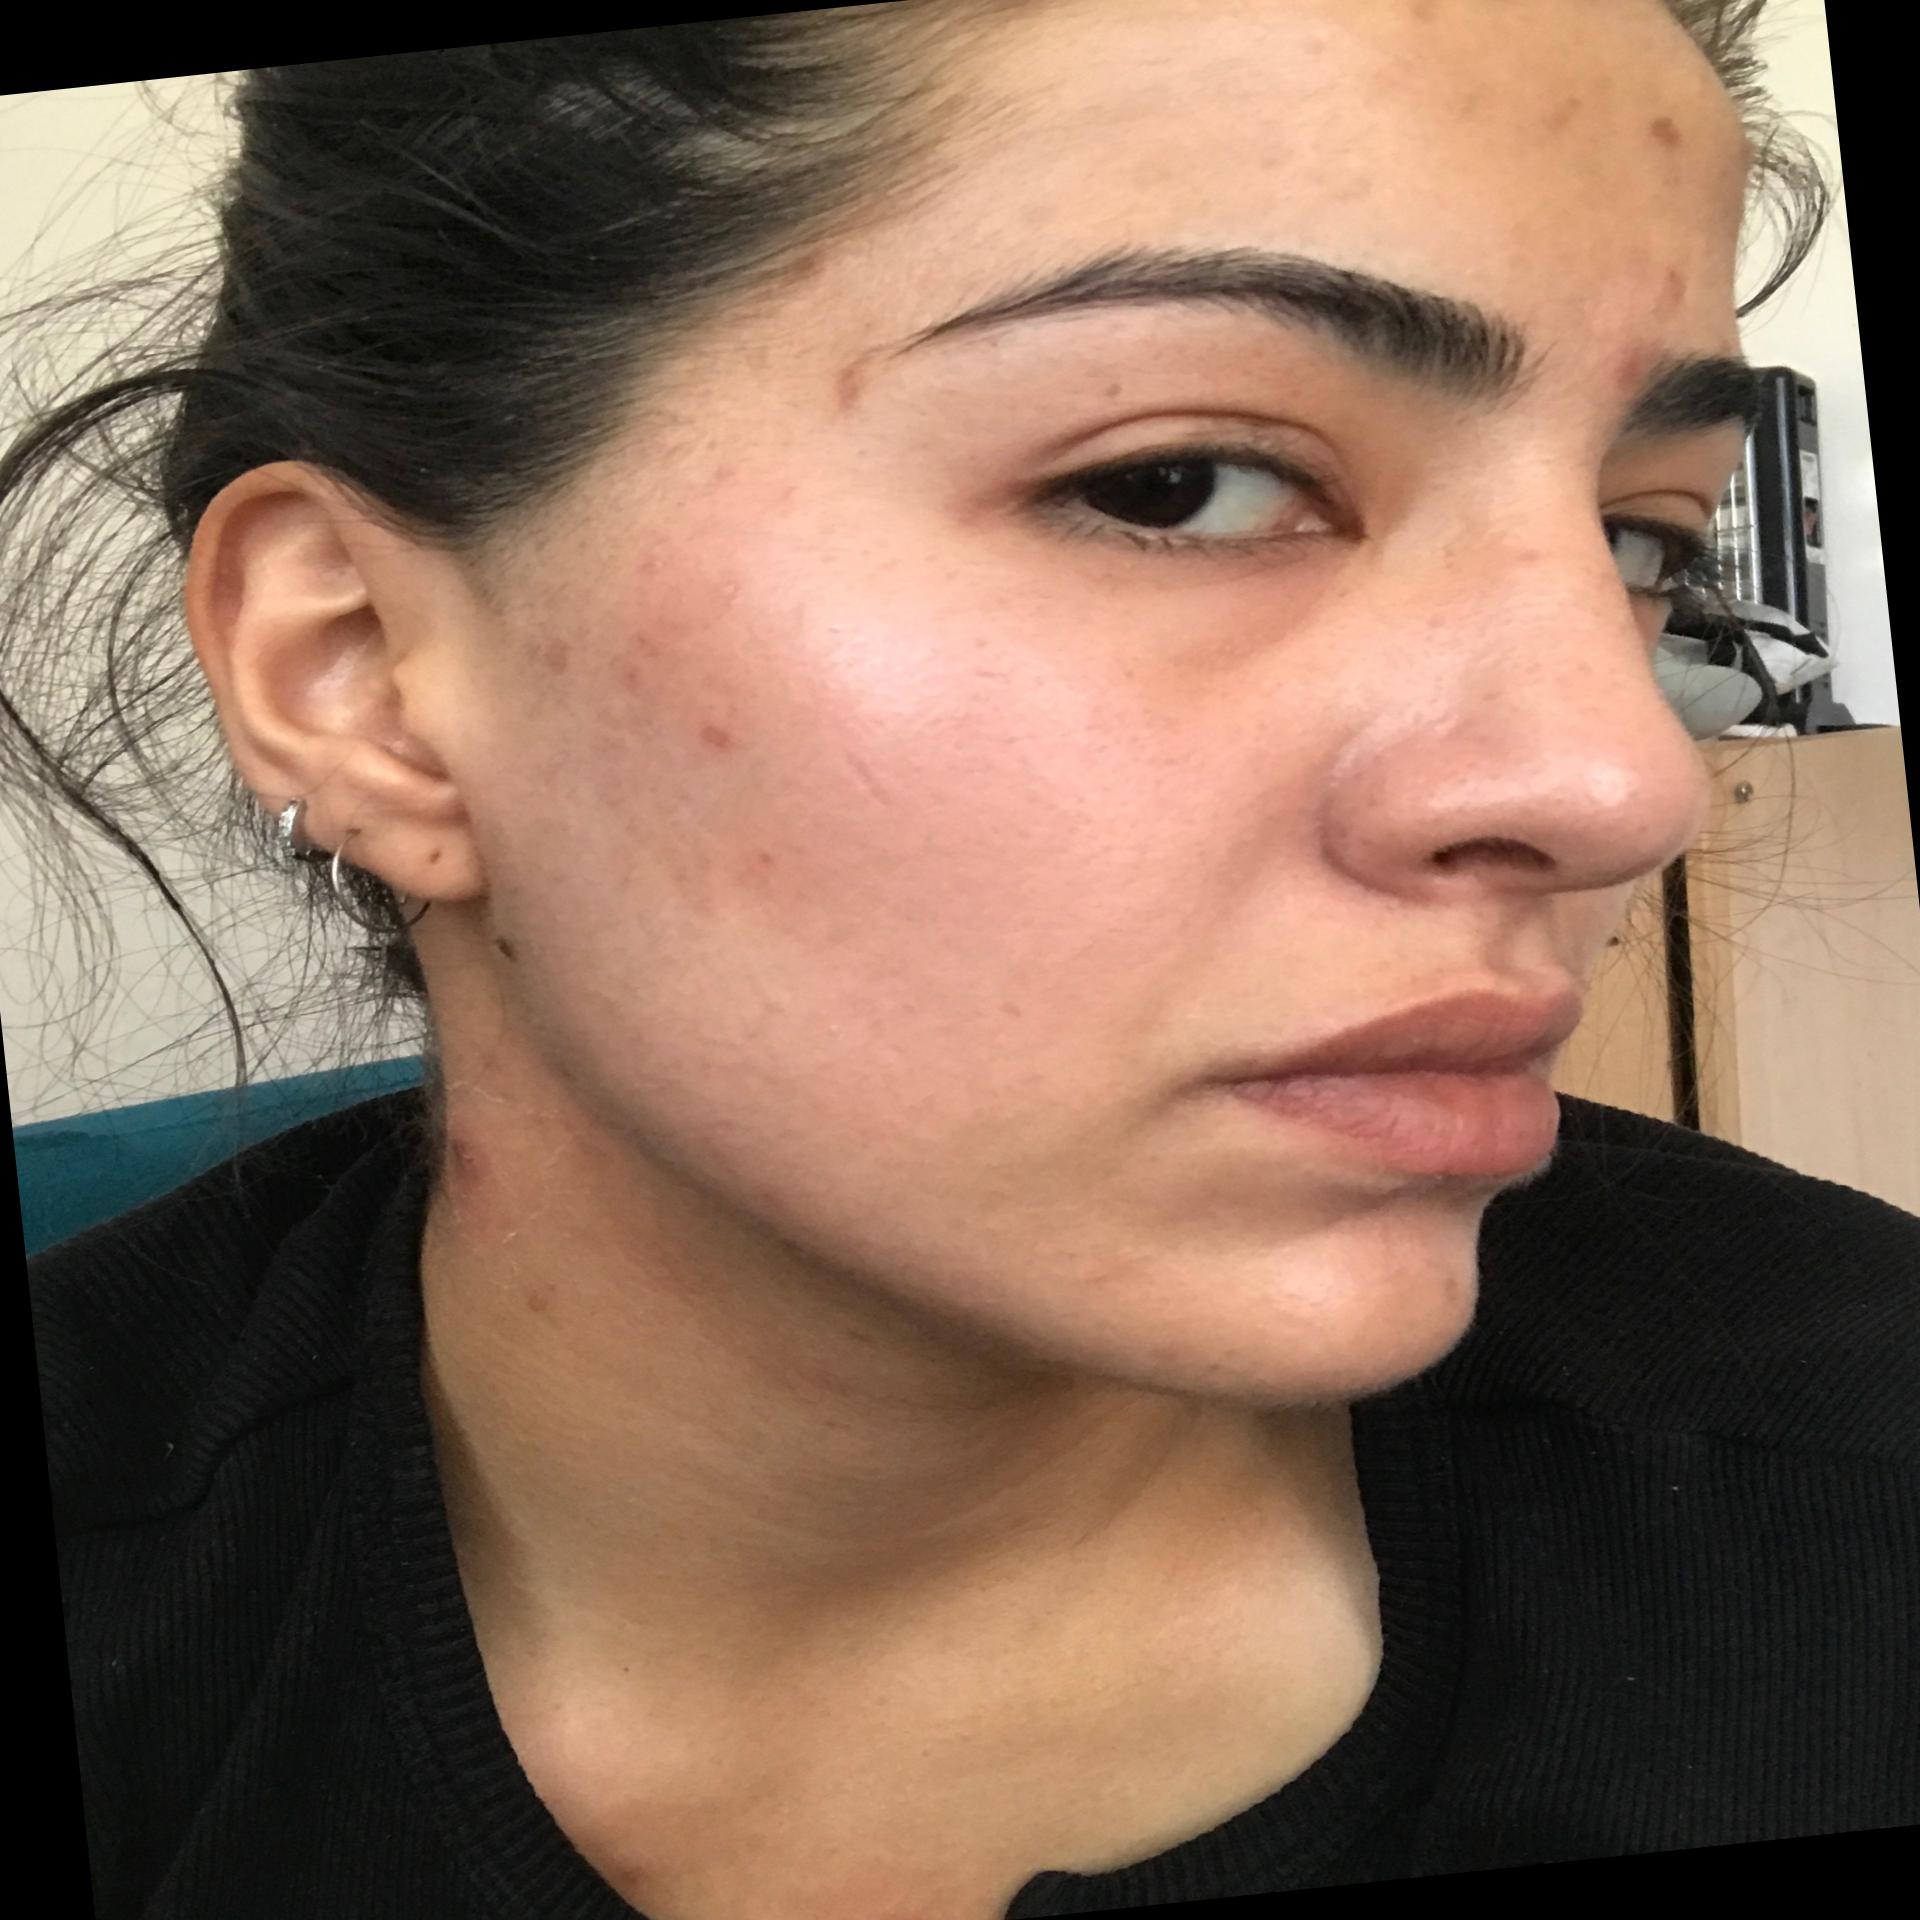Acne: (821, 348, 886, 433), (1602, 336, 1674, 396), (761, 239, 840, 290), (1633, 262, 1695, 325), (1642, 100, 1686, 172), (691, 707, 753, 747), (633, 614, 668, 679), (531, 626, 584, 668), (710, 563, 753, 614), (1431, 1266, 1468, 1313), (638, 547, 677, 589), (1387, 0, 1444, 28), (747, 839, 786, 877), (703, 455, 737, 496), (1503, 540, 1545, 570), (1422, 607, 1452, 640)
Blackhead: (1407, 760, 1574, 823)
